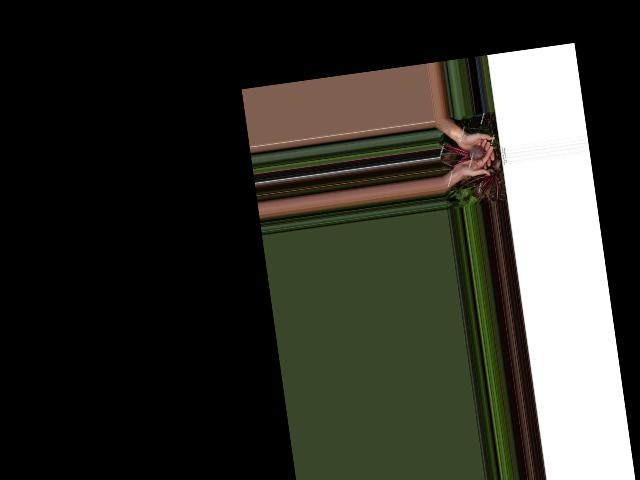beet: (439, 135, 488, 169)
